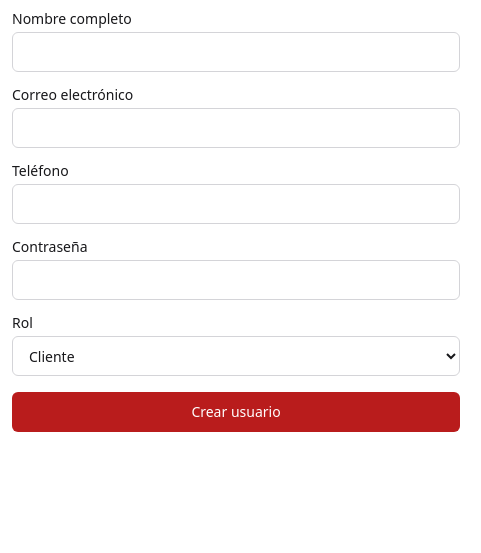
Test: Formulario de alta (FR-009, FR-014, SC-005) › rechaza el envío incompleto con los mensajes del paquete compartido
This screenshot has width=481, height=553.
Click the button "Crear usuario" at coordinates (236, 412), box [12, 392, 460, 432]
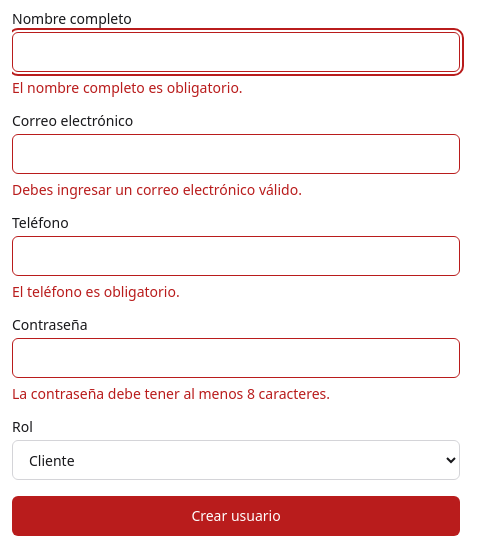
Check: the text "El nombre completo es obligatorio." is shown, box [12, 78, 243, 97]
Check: the text "El teléfono es obligatorio." is shown, box [12, 282, 180, 301]
